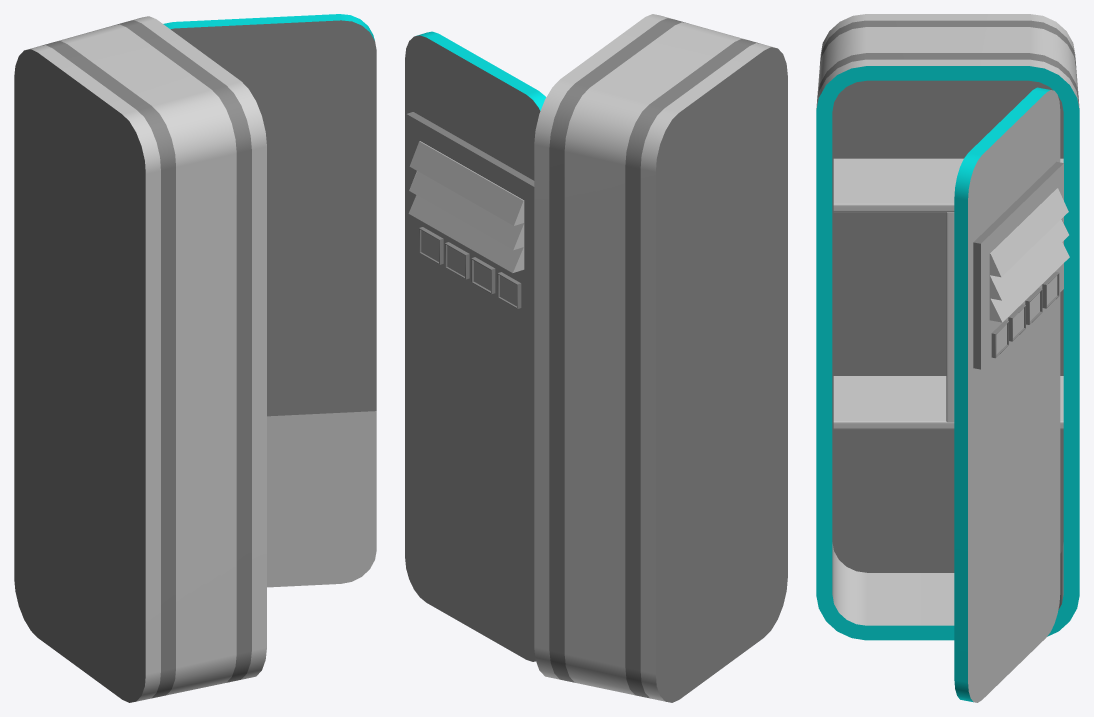
File: lockerAnimation.fbx
3 views of the same model, side by side, from view 1: azimuth 30°, elevation 25°; view 2: azimuth 150°, elevation 25°; view 3: azimuth 270°, elevation 25° (orthographic). The views are drawn at different scales.
Visible parts, largest first — view 1: locker_base, locker_locker_door_locker_door; view 2: locker_base, locker_locker_door_locker_door; view 3: locker_base, locker_locker_door_locker_door, locker_shelf2, locker_shelf1, locker_shelf3.
Boxes of the visible parts, x1,y1,x2,y2 form: locker_base: [14, 16, 266, 702]; locker_locker_door_locker_door: [163, 14, 376, 587]; locker_base: [534, 14, 787, 702]; locker_locker_door_locker_door: [405, 31, 545, 661]; locker_base: [816, 14, 1079, 640]; locker_locker_door_locker_door: [954, 87, 1069, 702]; locker_shelf2: [833, 158, 1063, 212]; locker_shelf1: [833, 376, 1063, 429]; locker_shelf3: [946, 212, 954, 422].
Bounding box in the file's own units: 111 × 207 × 86.02.
